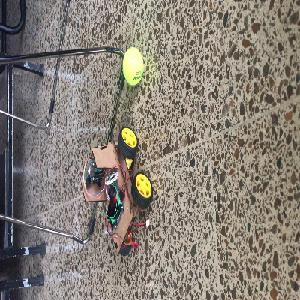Ball: (122, 46, 143, 85)
Robot: (81, 127, 152, 256)
